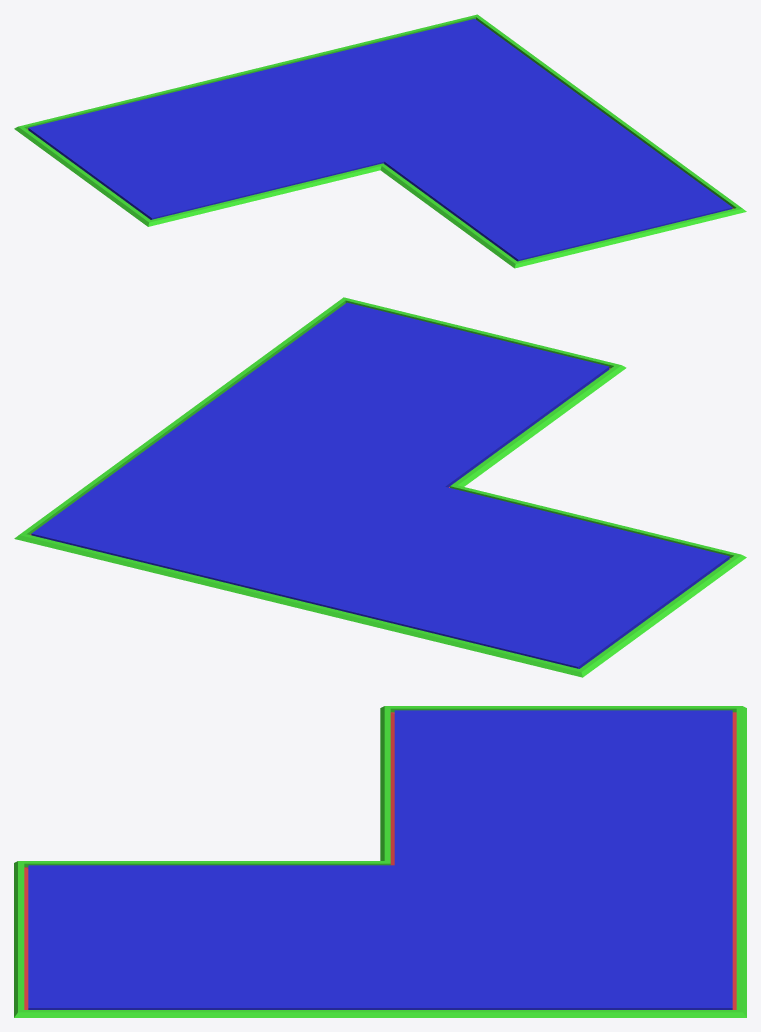
File: Floor_11_E.fbx
3 renders of one model, top to bottom at view 1: azimuth 30°, elevation 25°; view 2: azimuth 150°, elevation 25°; view 3: azimuth 270°, elevation 25°, orthographic. The views are drawn at different scales.
Visible parts, largest first — view 1: Floor_11_E; view 2: Floor_11_E; view 3: Floor_11_E.
Part boxes in pixels (box(x1,y1,x2,y2)): Floor_11_E: box(14, 14, 746, 268); Floor_11_E: box(14, 297, 746, 677); Floor_11_E: box(14, 706, 746, 1017).
Bounding box in the file's own units: 457 × 3.81 × 457.
